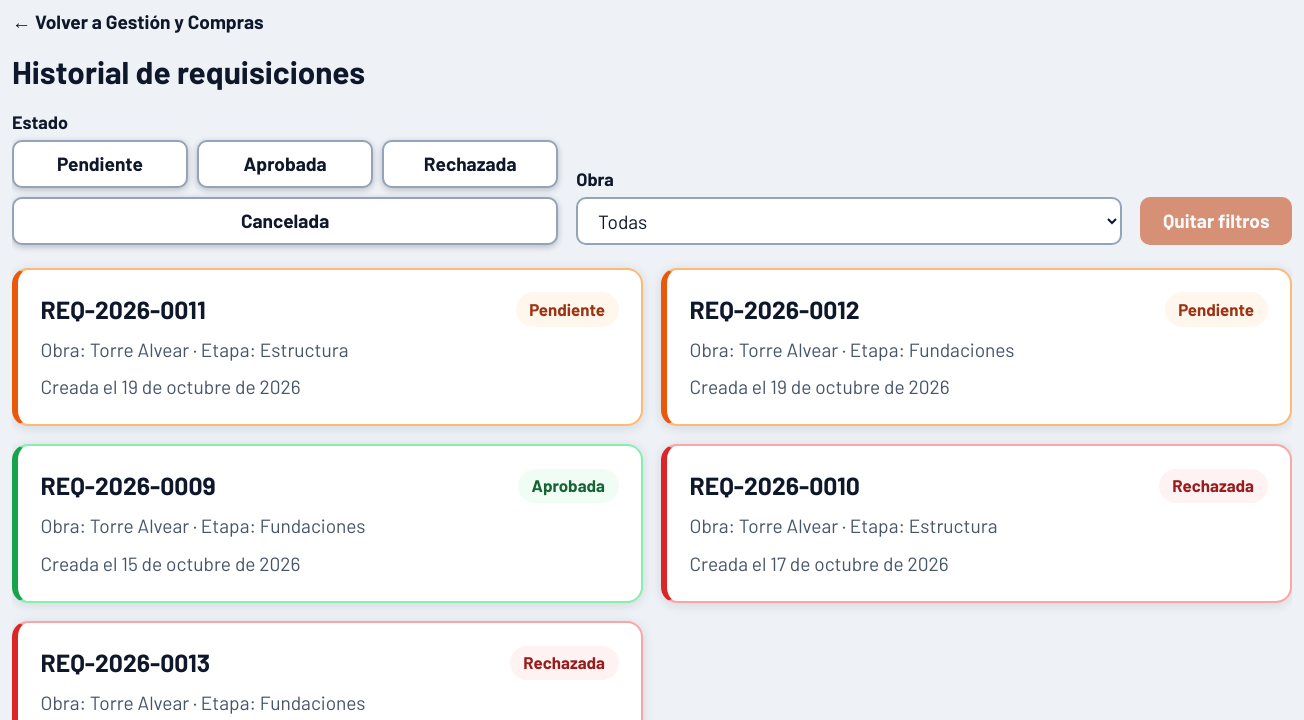
Test: HistorialRequisicionesPage - filtros › al elegir un estado pide solo esas requisiciones
The width and height of the screenshot is (1304, 720).
Expected: the link "REQ-2026-0011" is shown, x1=40 y1=294 x2=206 y2=324
Click the button "Aprobada" at (285,164), box x1=197 y1=140 x2=373 y2=188
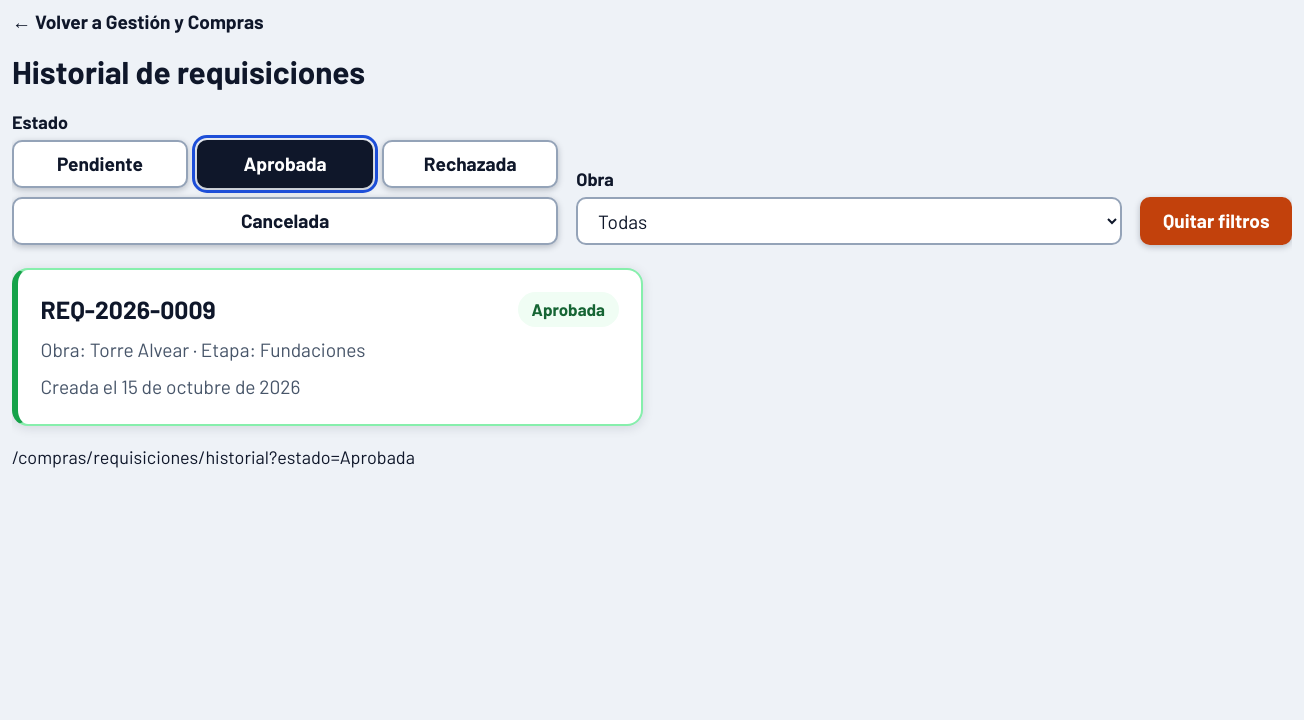
Expected: the link "REQ-2026-0009" is shown, x1=40 y1=294 x2=216 y2=324
Result: the link "REQ-2026-0011" is gone
Result: the link "REQ-2026-0010" is gone
